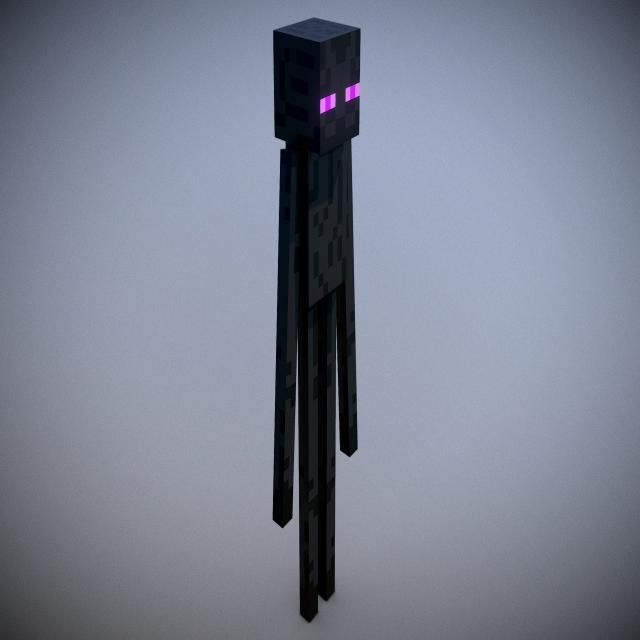Enderman: (268, 14, 366, 628)
